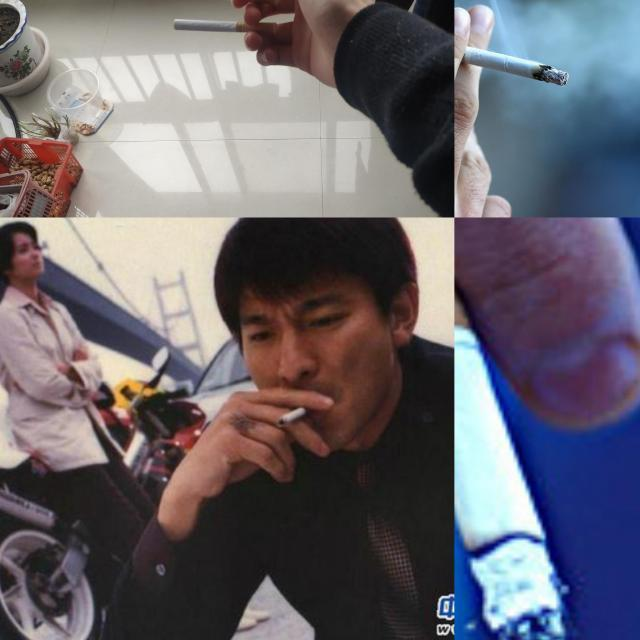smoking: (454, 228, 568, 640), (454, 34, 570, 86), (173, 18, 279, 36), (278, 402, 316, 424), (180, 0, 282, 5)
